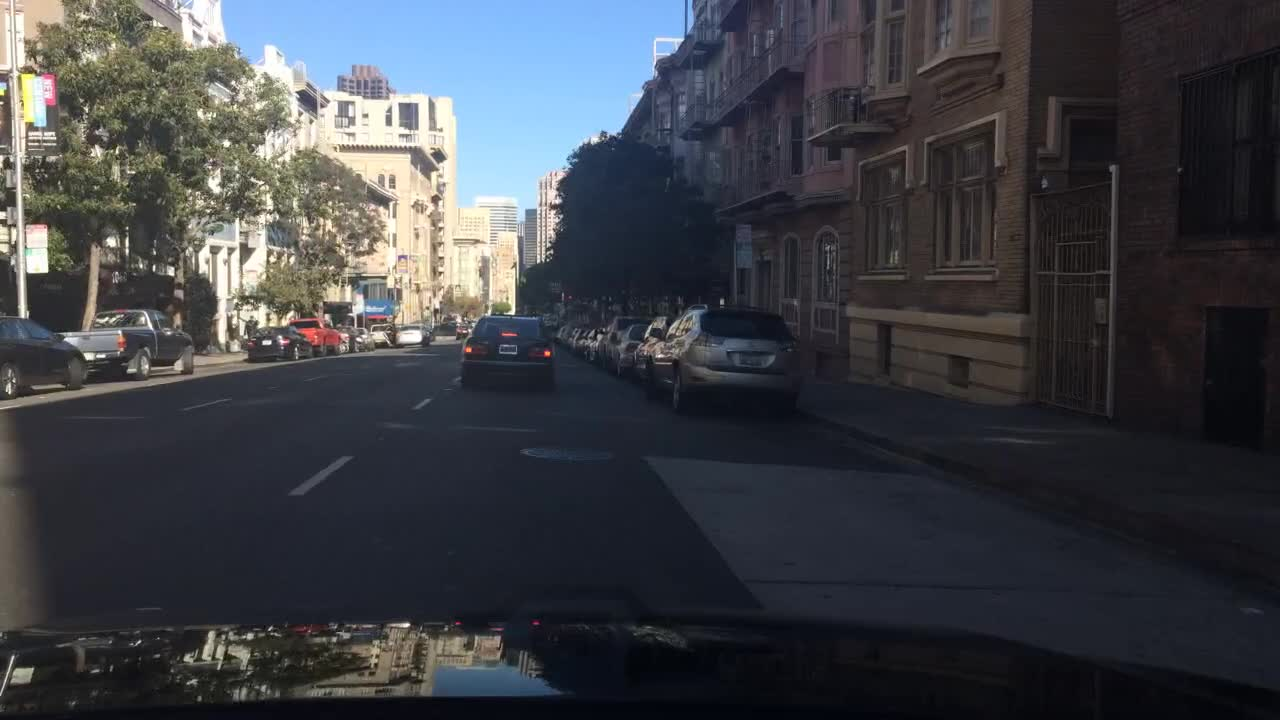car: (644, 301, 806, 418), (457, 314, 554, 392), (2, 314, 92, 398), (628, 316, 678, 387), (596, 316, 657, 372), (244, 324, 313, 363), (281, 317, 344, 355), (612, 324, 651, 379), (397, 324, 431, 350), (336, 326, 365, 352), (586, 330, 607, 363), (371, 323, 399, 344), (357, 326, 375, 354), (570, 327, 589, 353), (454, 318, 473, 339), (552, 322, 570, 343), (370, 331, 389, 349), (564, 324, 575, 350)
person: (242, 314, 260, 342)
traffic sign: (735, 224, 754, 269), (23, 247, 48, 274), (24, 221, 47, 247)
truck: (48, 305, 195, 381)
